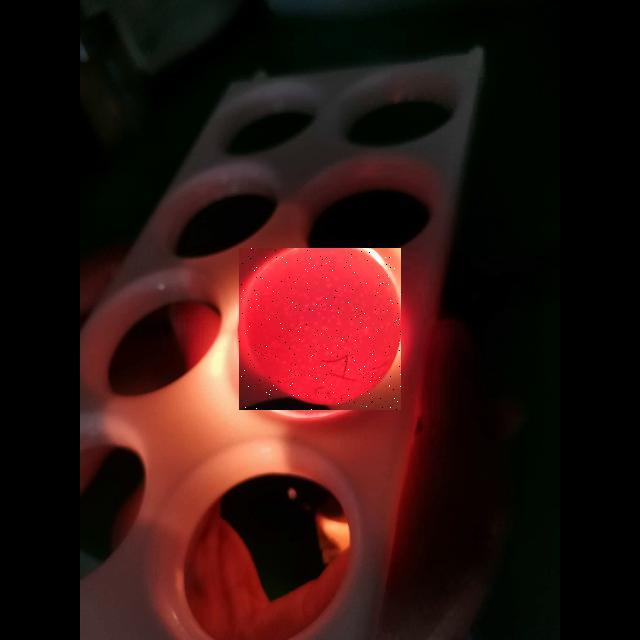Infertile: (239, 248, 401, 410)
